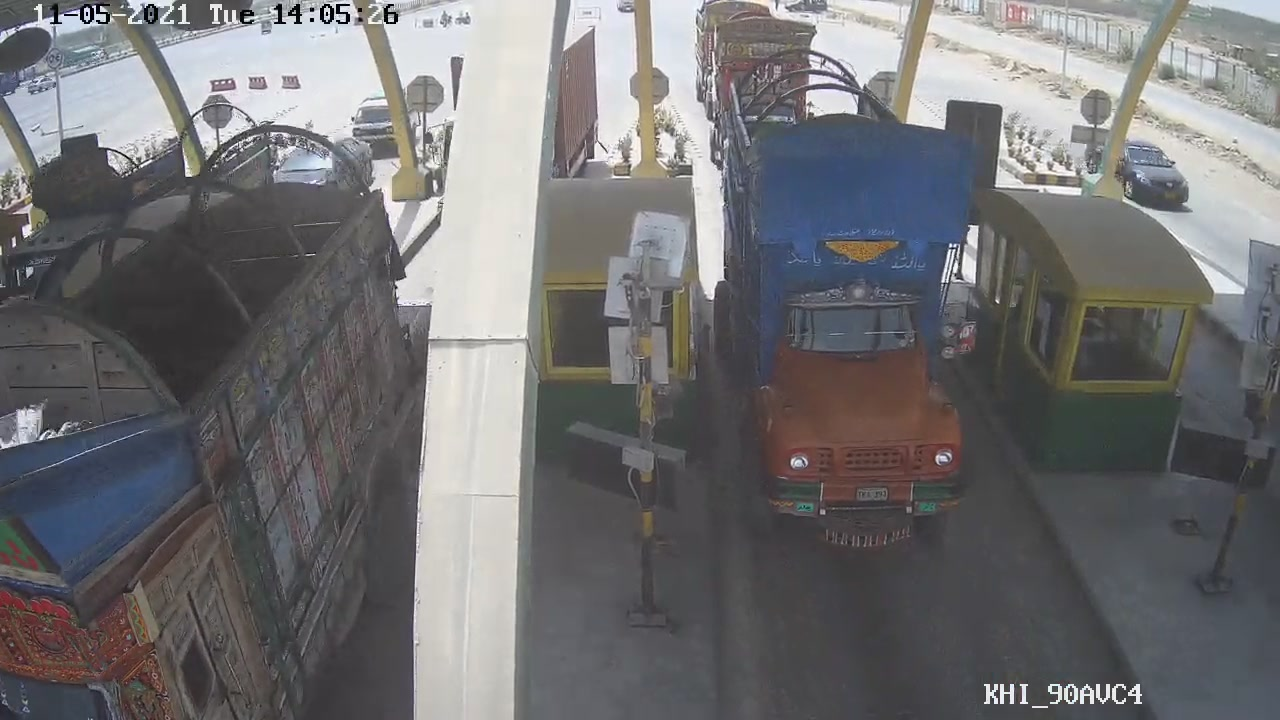F5: (724, 75, 985, 556)
